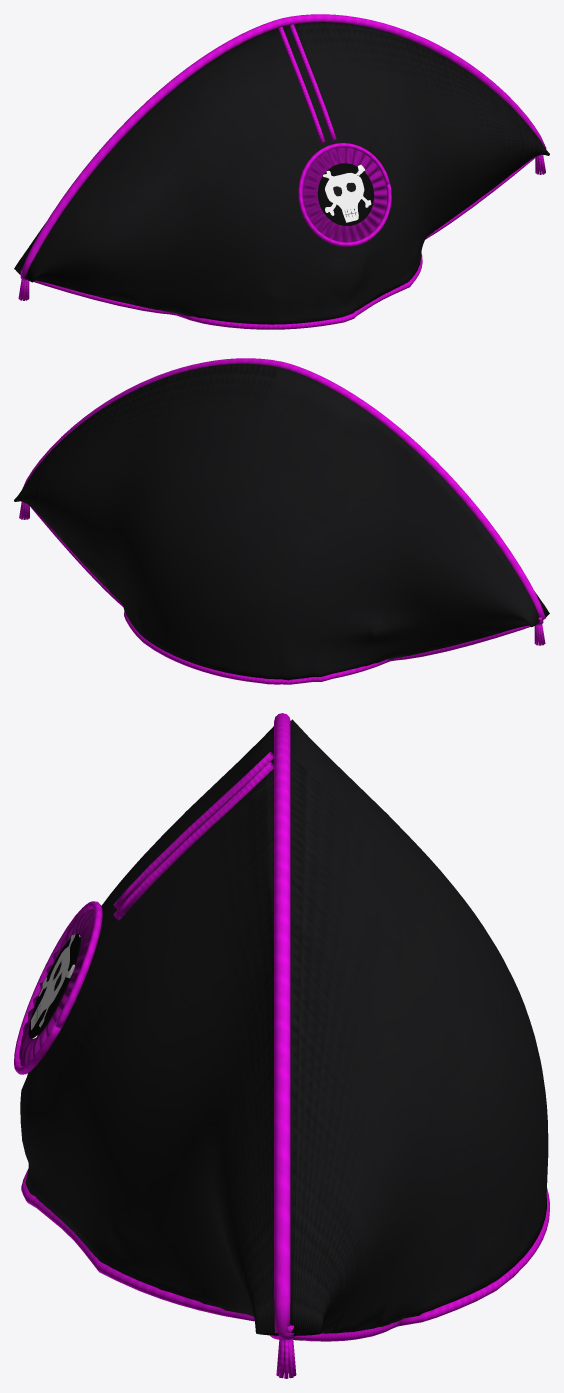
Rendered from hat_bicorne_male_lo.glb.
3 renders of one model, top to bottom at view 1: azimuth 30°, elevation 25°; view 2: azimuth 150°, elevation 25°; view 3: azimuth 270°, elevation 25°, orthographic. The views are drawn at different scales.
Visible parts, largest first — view 1: hat_bicorne_lo; view 2: hat_bicorne_lo; view 3: hat_bicorne_lo.
Boxes of the visible parts, left/top/right/bottom form: hat_bicorne_lo: left=14, top=14, right=549, bottom=329; hat_bicorne_lo: left=14, top=358, right=549, bottom=684; hat_bicorne_lo: left=14, top=713, right=549, bottom=1378.
Size of the model in its own units: 1.13 by 0.5317 by 0.5472.
Materials: 1 (1 with a texture image).
